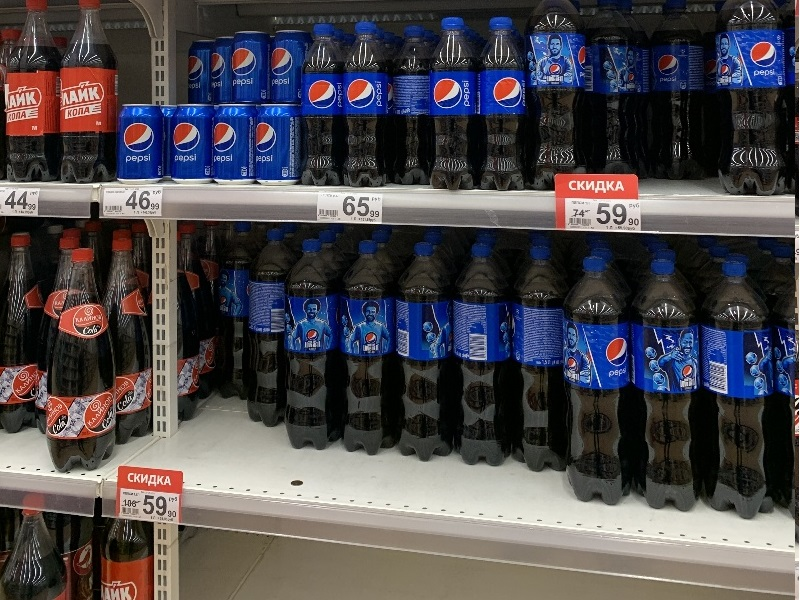lemonade: (693, 258, 787, 524), (552, 255, 641, 515), (629, 258, 718, 518), (38, 246, 127, 484), (442, 240, 527, 473), (330, 237, 407, 460), (389, 240, 463, 468), (511, 243, 576, 477), (282, 239, 347, 461), (55, 2, 129, 188), (1, 1, 71, 190), (419, 15, 483, 189), (471, 16, 534, 192), (340, 16, 395, 193), (294, 26, 352, 191)
